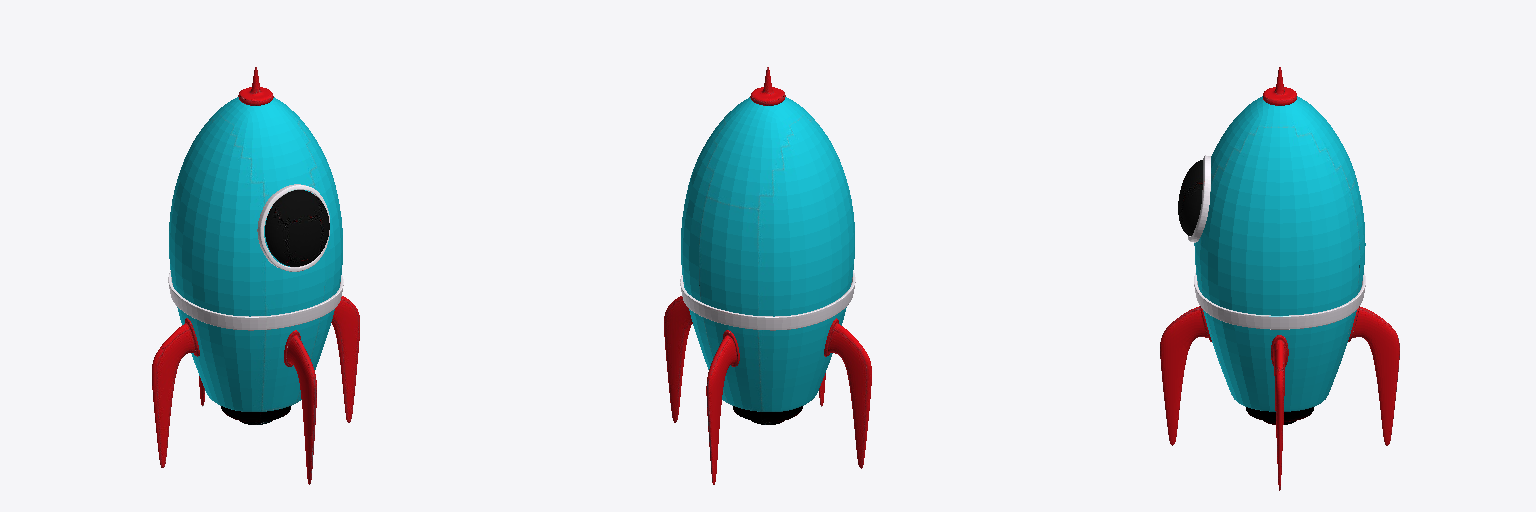
The picture shows the model from 3 angles: view 1: azimuth 30°, elevation 25°; view 2: azimuth 150°, elevation 25°; view 3: azimuth 270°, elevation 25°; orthographic projection.
Parts seen in each view (by area): view 1: Cube.003_Cube.004; view 2: Cube.003_Cube.004; view 3: Cube.003_Cube.004.
Boxes of the visible parts, x1,y1,x2,y2 form: Cube.003_Cube.004: [152, 67, 359, 484]; Cube.003_Cube.004: [664, 67, 871, 484]; Cube.003_Cube.004: [1160, 67, 1399, 490].
Size of the model in its own units: 2.73 by 4.78 by 2.73.
1 materials, 1 textured.